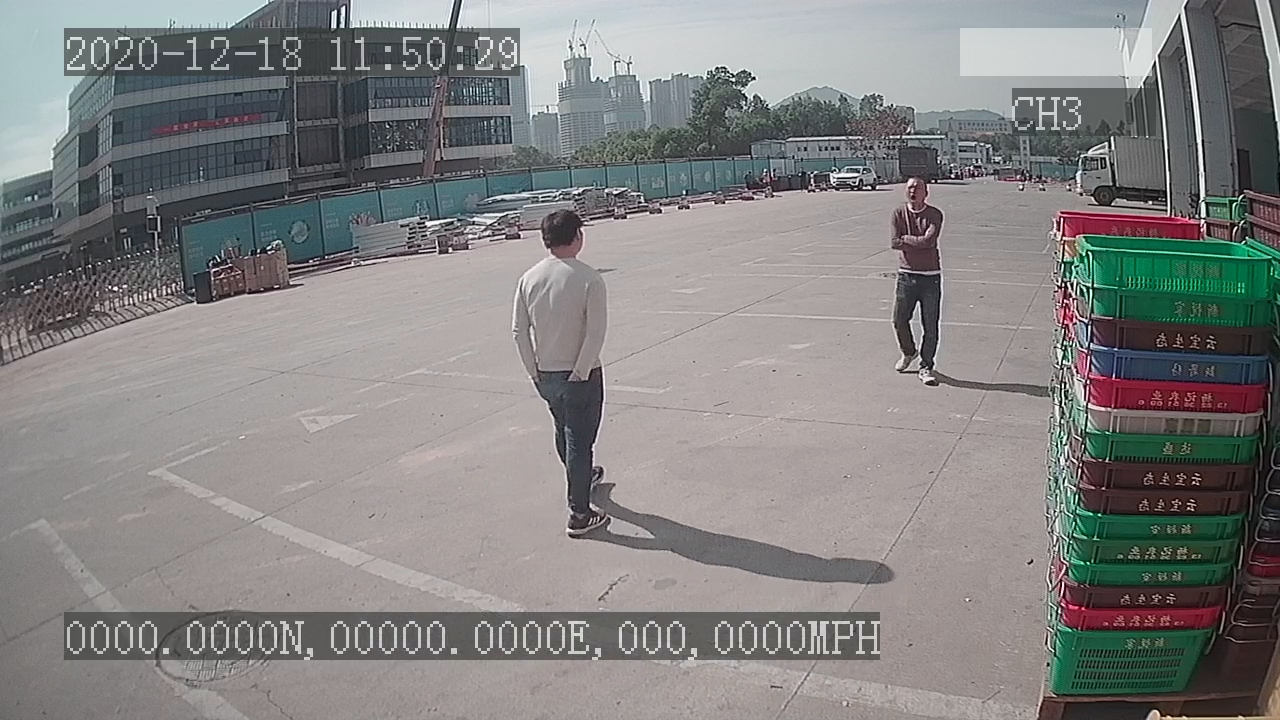person: (508, 204, 620, 542), (884, 174, 947, 390)
